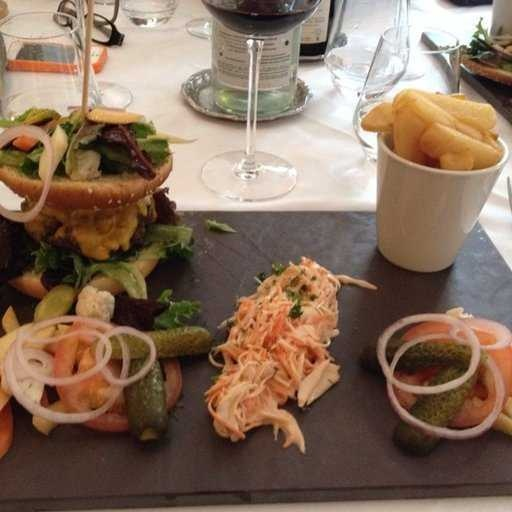hamburger: (8, 104, 165, 298)
